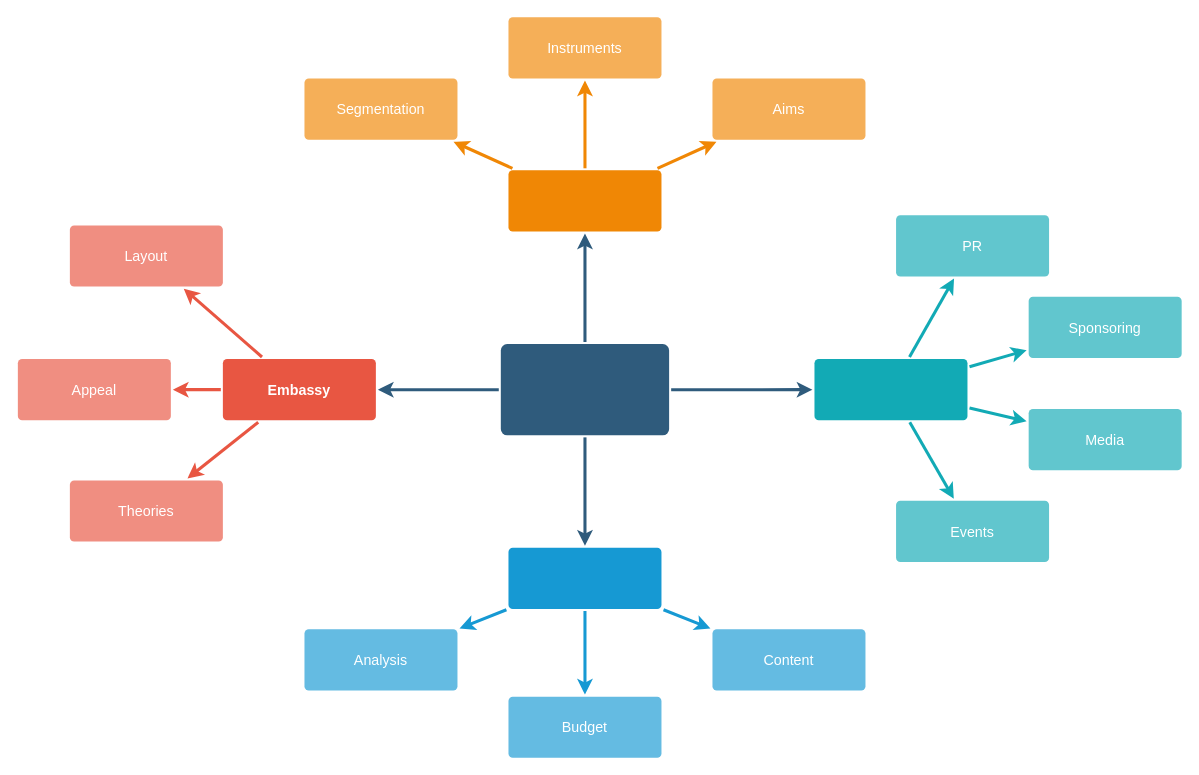
The diagram is 1199 pixels wide and 775 high, and some of its shapes have lost their labels. The box of each missing label's shape, as (x1, y1, x2, y2) in pixels:
Anwendung von Roboterarmen in der Physiotherapie: (500, 344, 669, 435)
Communication: (814, 359, 967, 420)
Marketing: (508, 170, 661, 231)
Organization: (508, 547, 661, 608)
